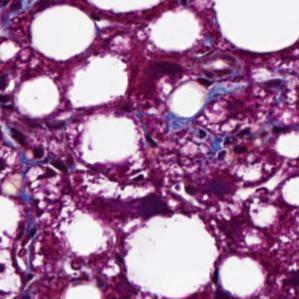inflammation: (22, 139, 73, 186)
